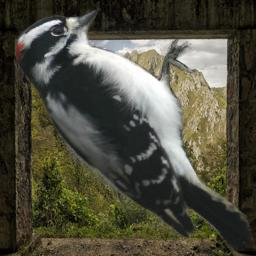Woodpecker: (15, 9, 254, 251)
